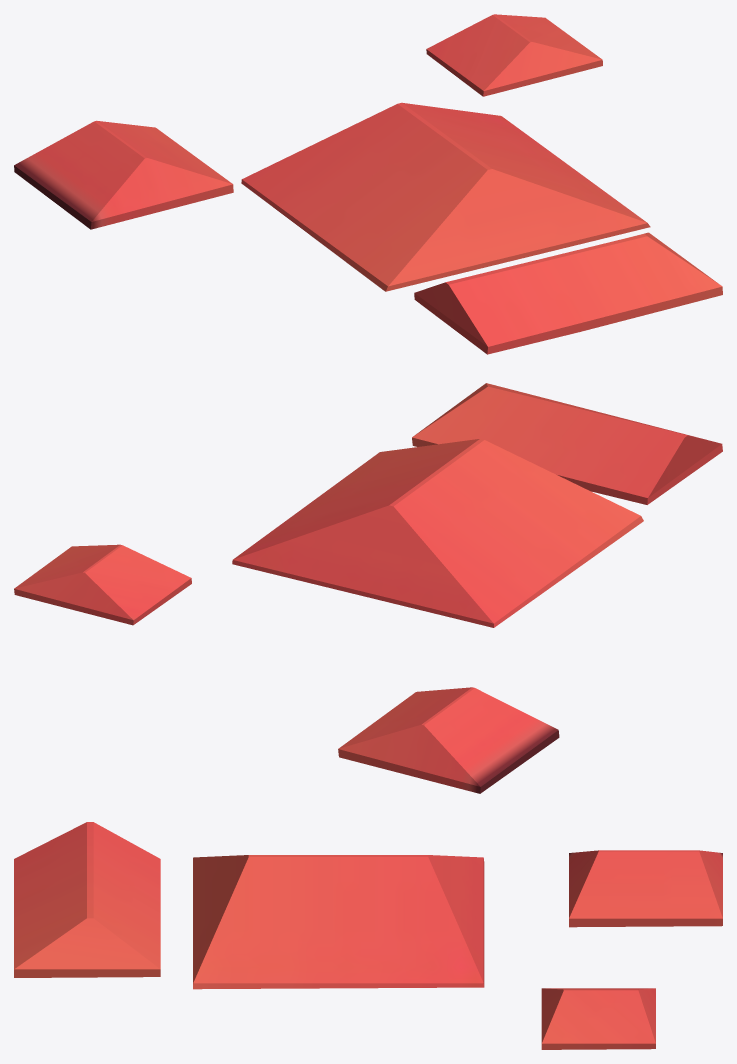
File: techos rojos.fbx
3 views of the same model, one above another, from view 1: azimuth 30°, elevation 25°; view 2: azimuth 150°, elevation 25°; view 3: azimuth 270°, elevation 25° (orthographic).
Visible parts, largest first — view 1: techo_tipo_1, techo_tipo_2, techo_tipo_4, techo_tipo_3; view 2: techo_tipo_1, techo_tipo_2, techo_tipo_4, techo_tipo_3; view 3: techo_tipo_1, techo_tipo_2, techo_tipo_4, techo_tipo_3.
Boxes of the visible parts, left/top/right/bottom form: techo_tipo_1: left=241, top=102, right=650, bottom=291; techo_tipo_2: left=414, top=232, right=722, bottom=354; techo_tipo_4: left=14, top=120, right=233, bottom=229; techo_tipo_3: left=426, top=14, right=602, bottom=96; techo_tipo_1: left=232, top=439, right=643, bottom=627; techo_tipo_2: left=412, top=383, right=722, bottom=504; techo_tipo_4: left=338, top=687, right=559, bottom=793; techo_tipo_3: left=14, top=544, right=191, bottom=625; techo_tipo_1: left=193, top=855, right=484, bottom=989; techo_tipo_2: left=14, top=822, right=160, bottom=977; techo_tipo_4: left=569, top=850, right=722, bottom=927; techo_tipo_3: left=541, top=988, right=655, bottom=1049.
Bounding box in the file's own units: 3173 × 732 × 3937.
